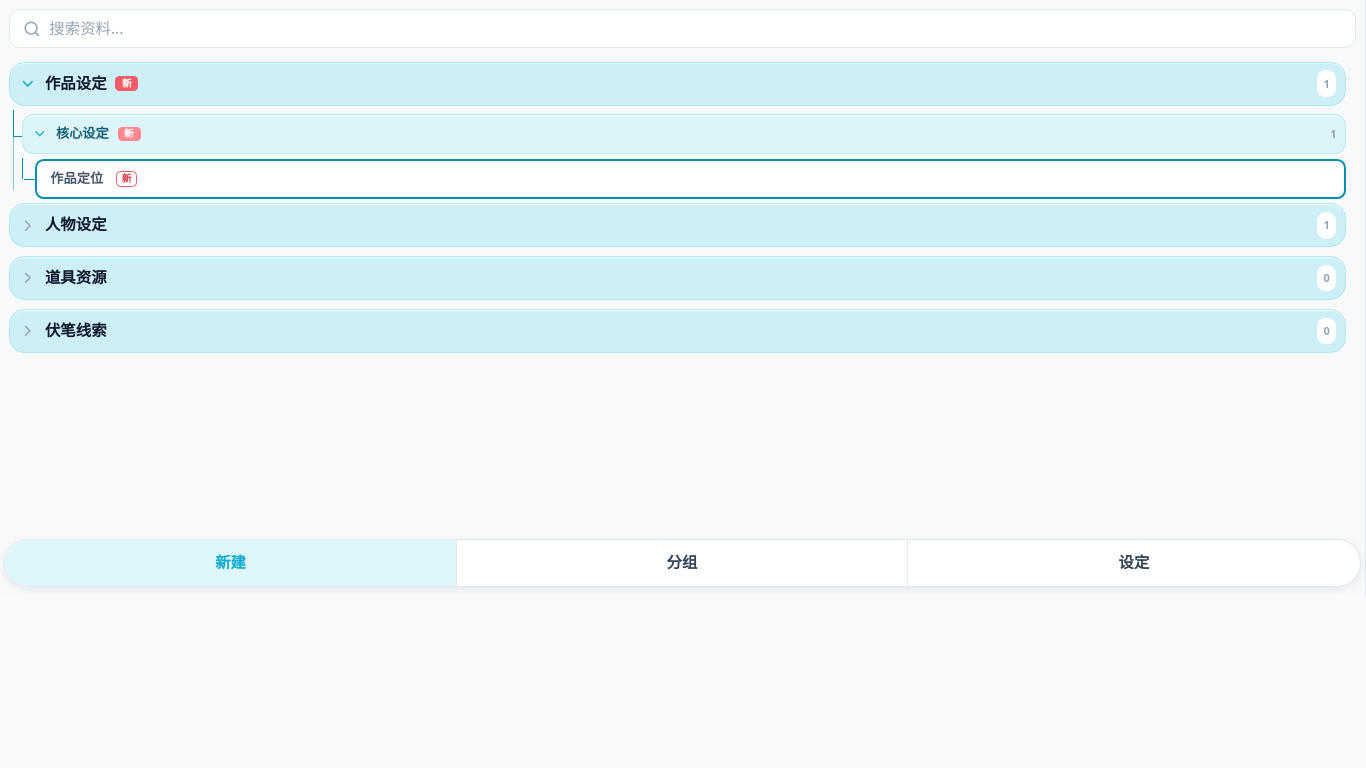
Scenario: WorkbenchSettingTreeSidebar › shows a male protagonist badge next to male protagonist role entries only
Click the text "人物设定" at [76, 225], box [45,214,107,236]
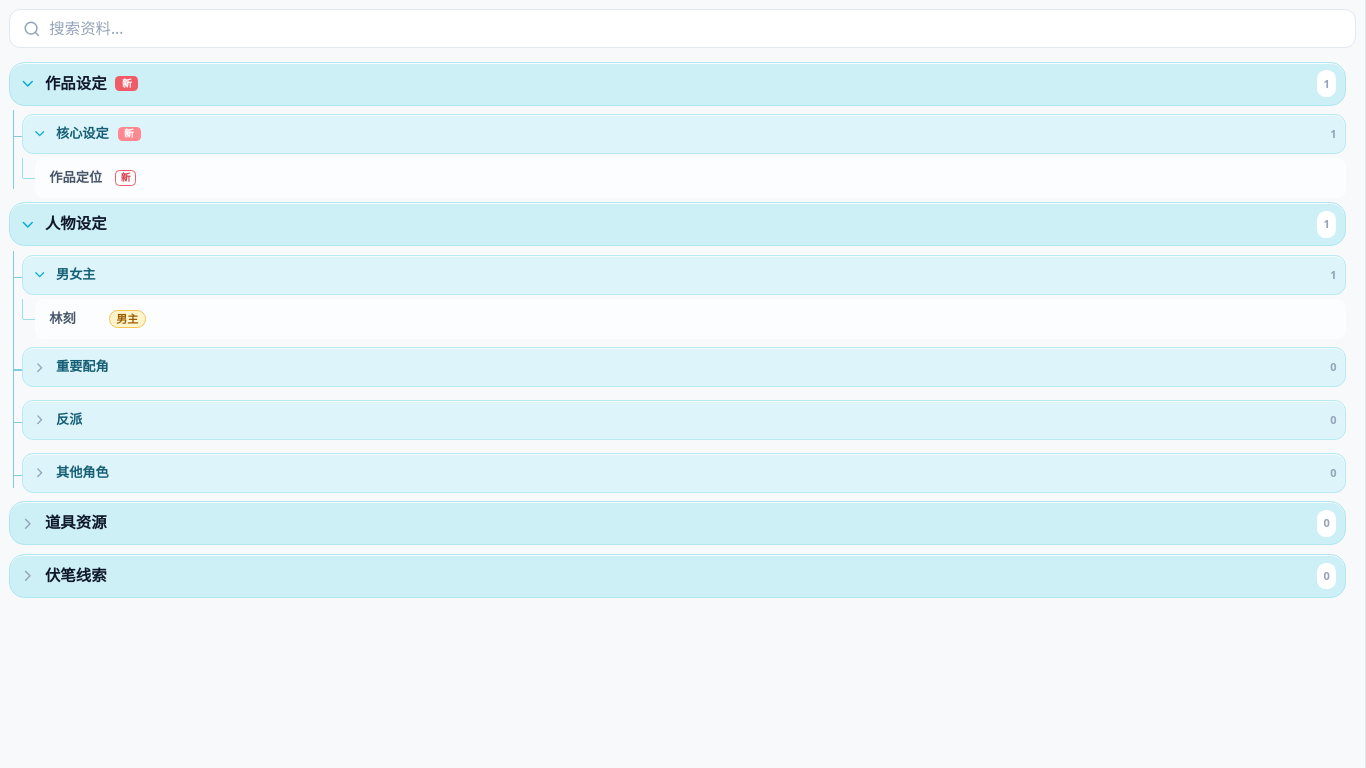
Expected: the button "作品定位 新" does not show "男主", [35,158,1346,198]
Result: the button "林刻 男主" is shown at [35,299,1346,339]
